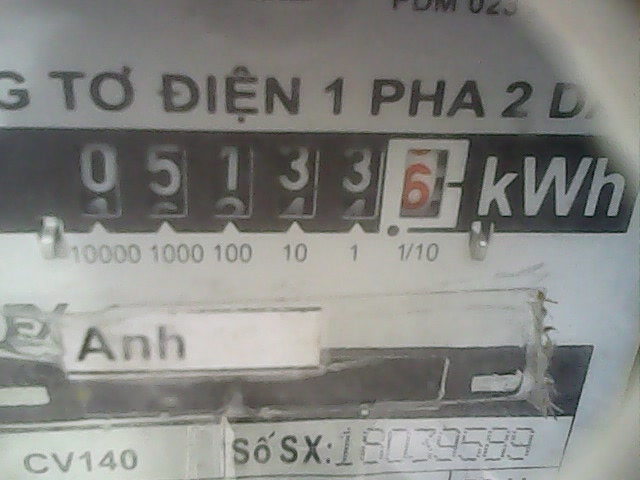phy_plate: (66, 127, 478, 237)
